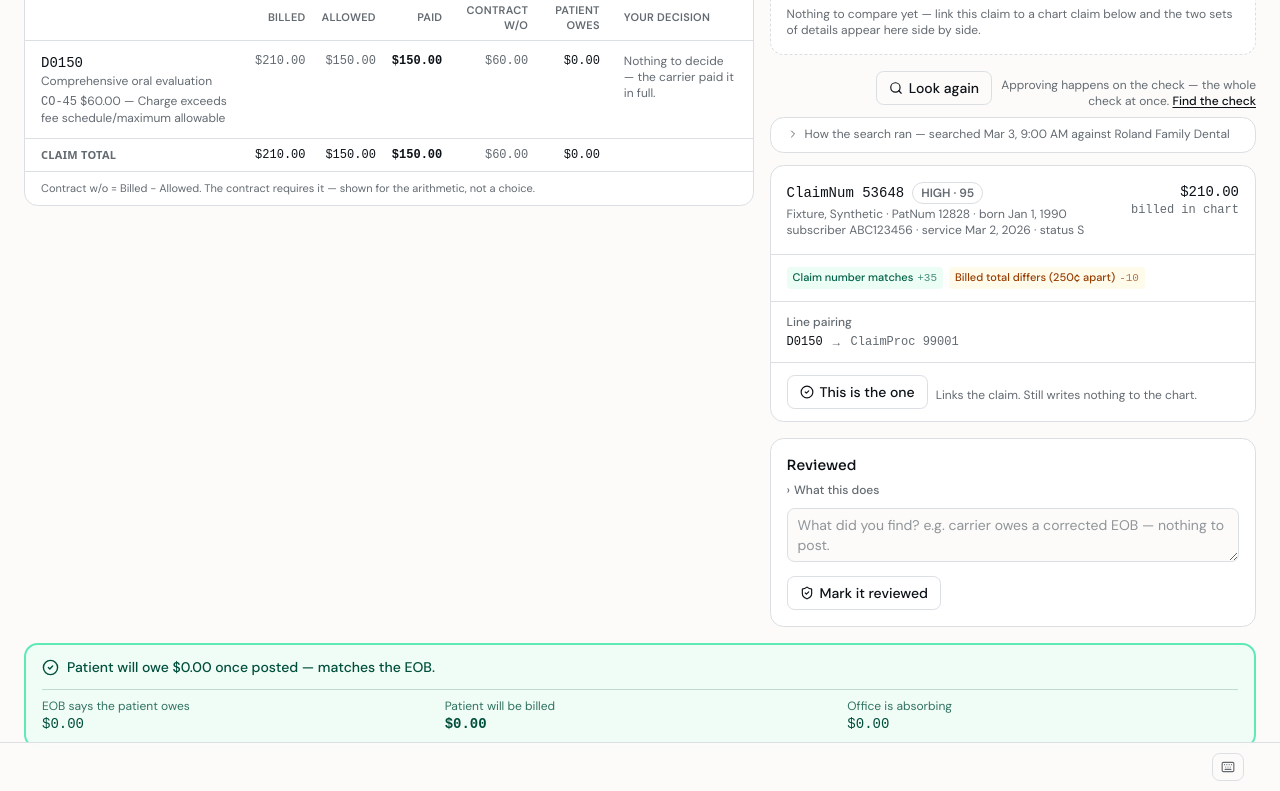
Scenario: the claim match panel › confirming is a click a person makes, and reports the linkage
(page scrolled)
What coordinates should you click on to do the following:
click the button with test id "confirm-53648"
I would click on:
 (857, 392)
Its box is x1=787 y1=374 x2=928 y2=408.
(page scrolled)
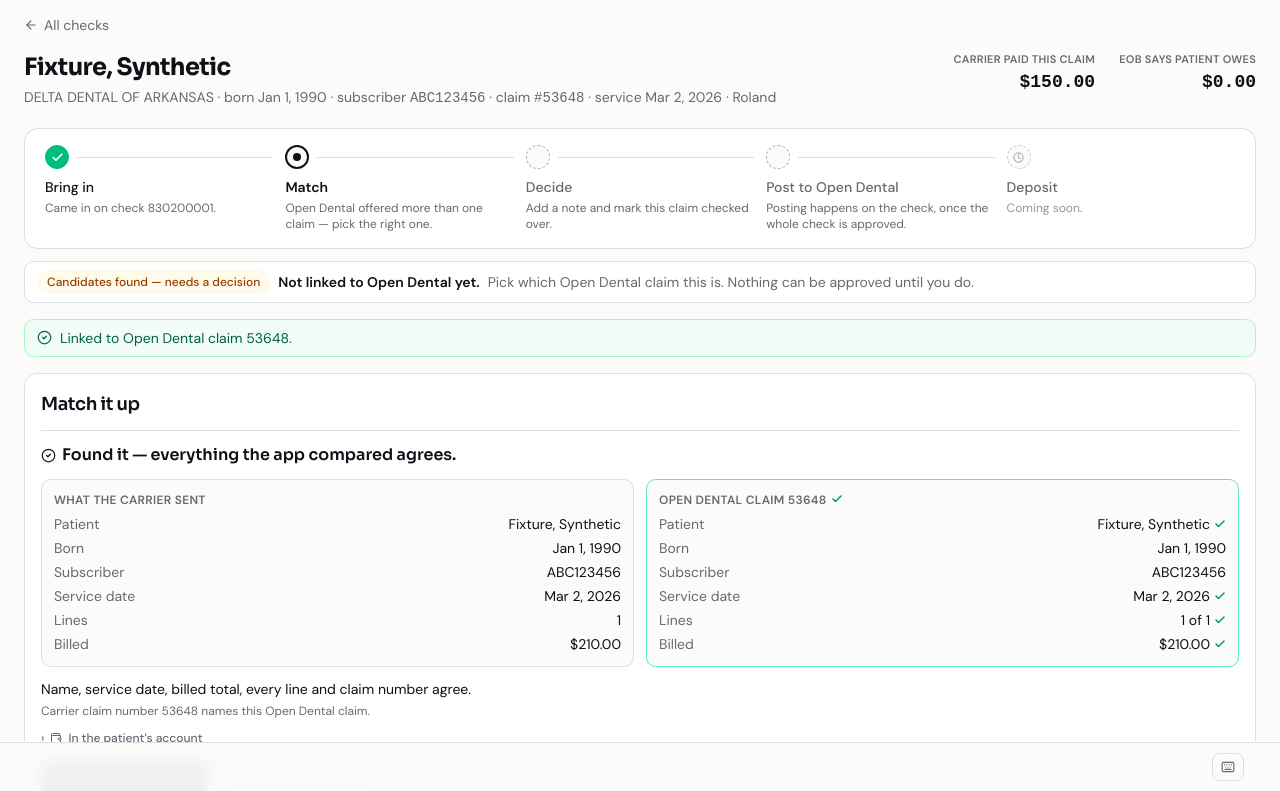
Expected: the element with test id "claim-notice" shows "Linked to Open Dental claim 53648", x1=60 y1=329 x2=292 y2=347
